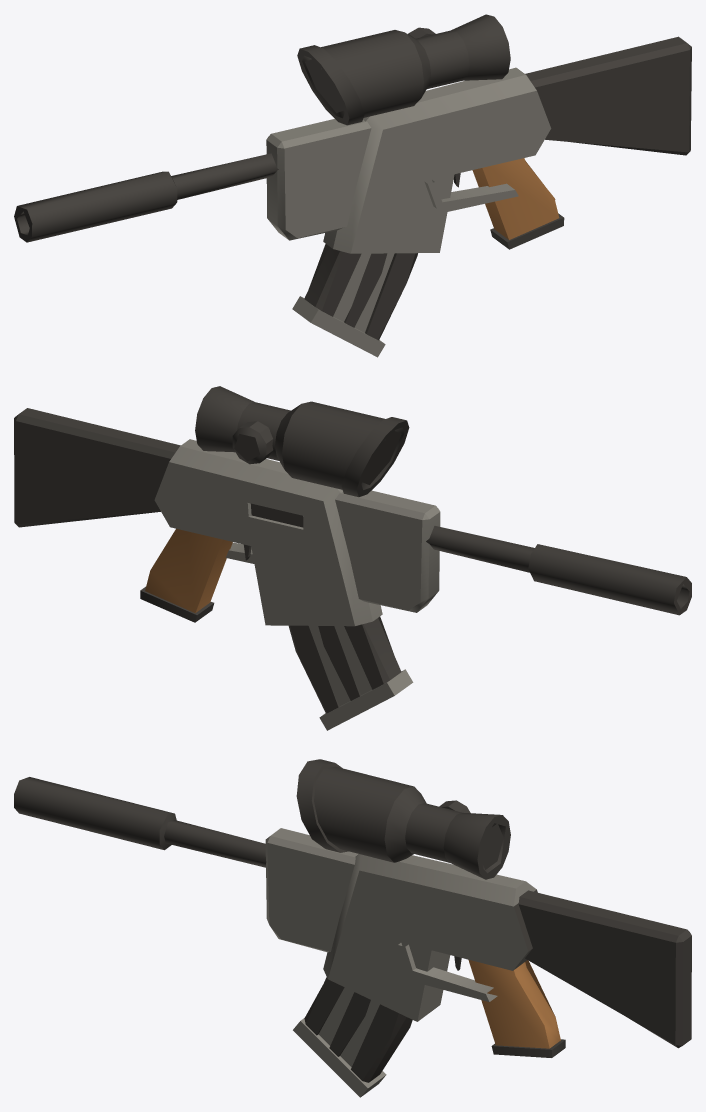
The model's file is cc0-sniper-lod1.glb.
3 views of the same model, one above another, from view 1: azimuth 30°, elevation 25°; view 2: azimuth 150°, elevation 25°; view 3: azimuth 330°, elevation 25° (orthographic).
Parts seen in each view (by area): view 1: part_0; view 2: part_0; view 3: part_0.
Part boxes in pixels (x1,y1,x2,y2): part_0: (14, 14, 691, 357); part_0: (14, 386, 691, 730); part_0: (14, 759, 691, 1097).
Size of the model in its own units: 1.74 by 0.7852 by 0.194.
